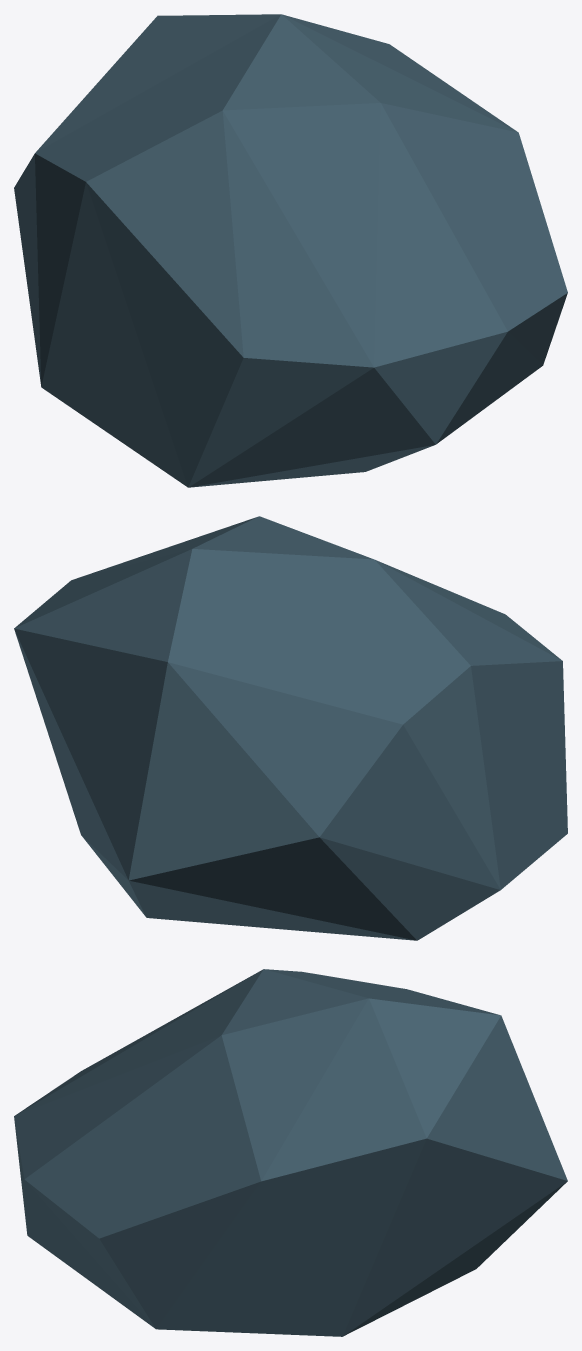
File: rock medium 3.fbx
3 renders of one model, top to bottom at view 1: azimuth 30°, elevation 25°; view 2: azimuth 150°, elevation 25°; view 3: azimuth 270°, elevation 25°, orthographic. The views are drawn at different scales.
Visible parts, largest first — view 1: rock medium 3; view 2: rock medium 3; view 3: rock medium 3.
Boxes of the visible parts, left/top/right/bottom form: rock medium 3: left=14, top=14, right=567, bottom=487; rock medium 3: left=14, top=516, right=567, bottom=940; rock medium 3: left=14, top=969, right=567, bottom=1336.
Size of the model in its own units: 74.25 by 57.85 by 88.97.
